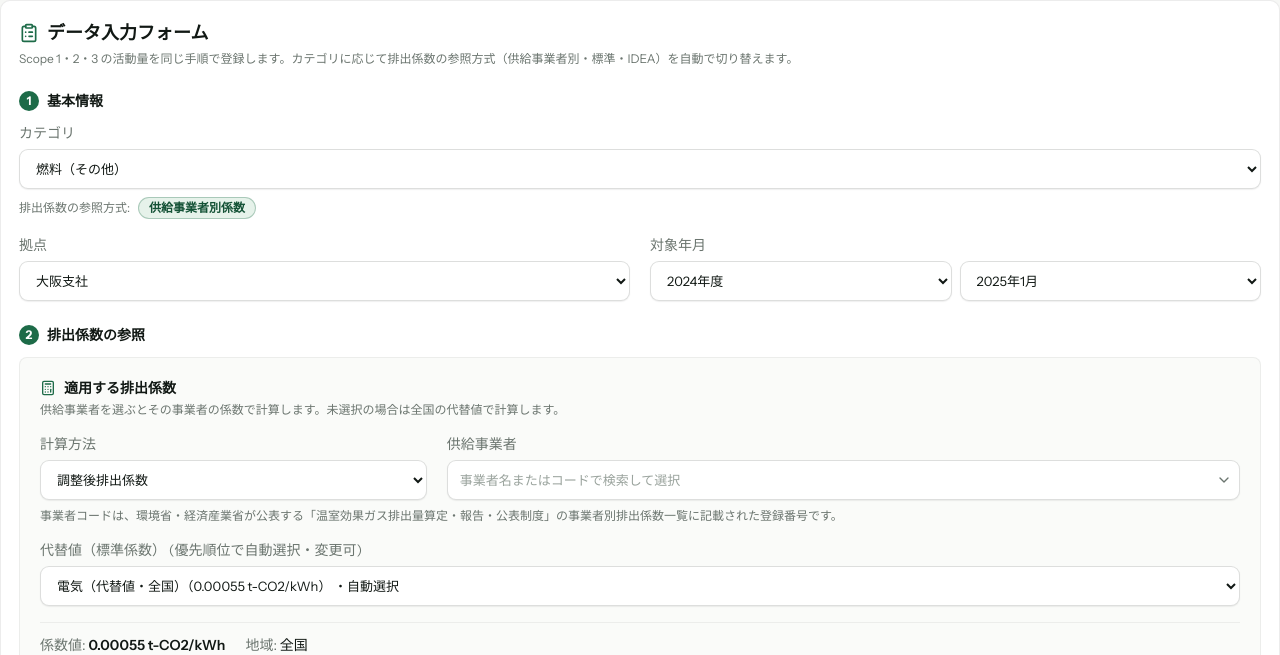
ActivityEntryForm › カテゴリ切替: 燃料は標準係数、Scope3 は IDEA 原単位に切り替わり、Scope3 の間は係数を再取得しない
This screenshot has width=1280, height=655.
Select "燃料（その他）" in the dropdown with id "manual-category-select" at [640, 169], box [19,149,1261,189]
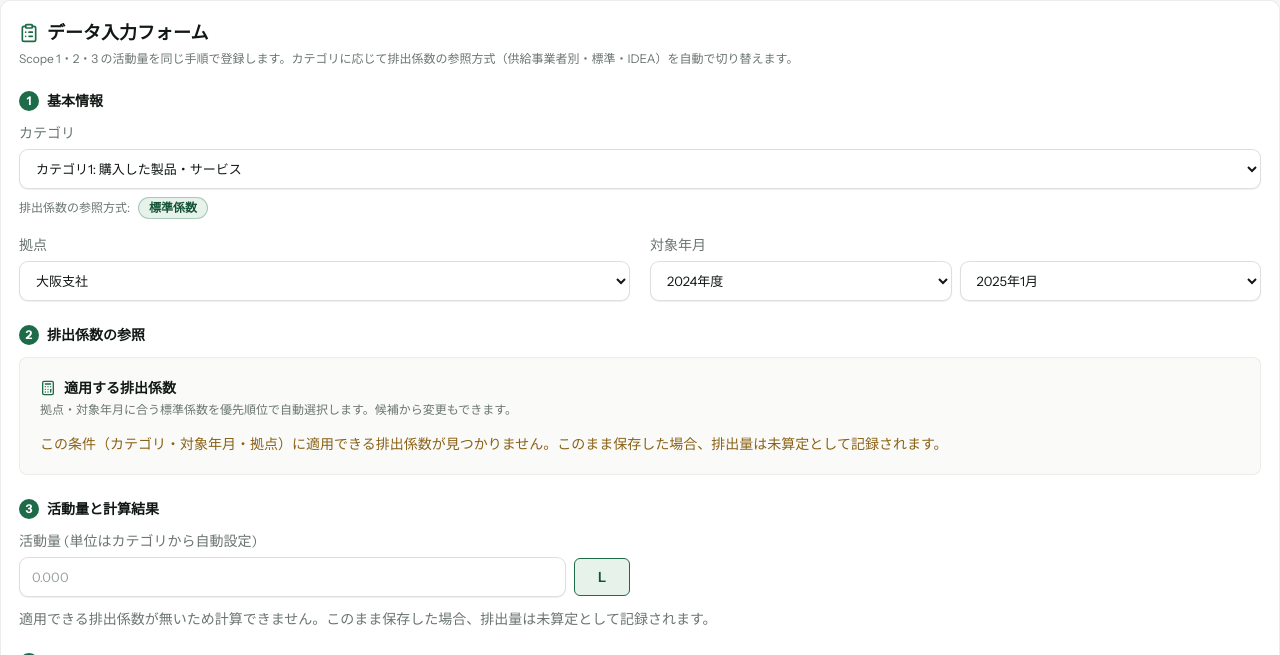
Result: the text with test id "manual-factor-source-chip" reads "標準係数" at [149,200,197,215]
Result: the label with id "manual-factor-type-select" is gone
Result: the label with id "manual-provider-select" is gone
Select "カテゴリ1: 購入した製品・サービス" in the dropdown with id "manual-category-select" at [640, 169], box [19,149,1261,189]
(page scrolled)
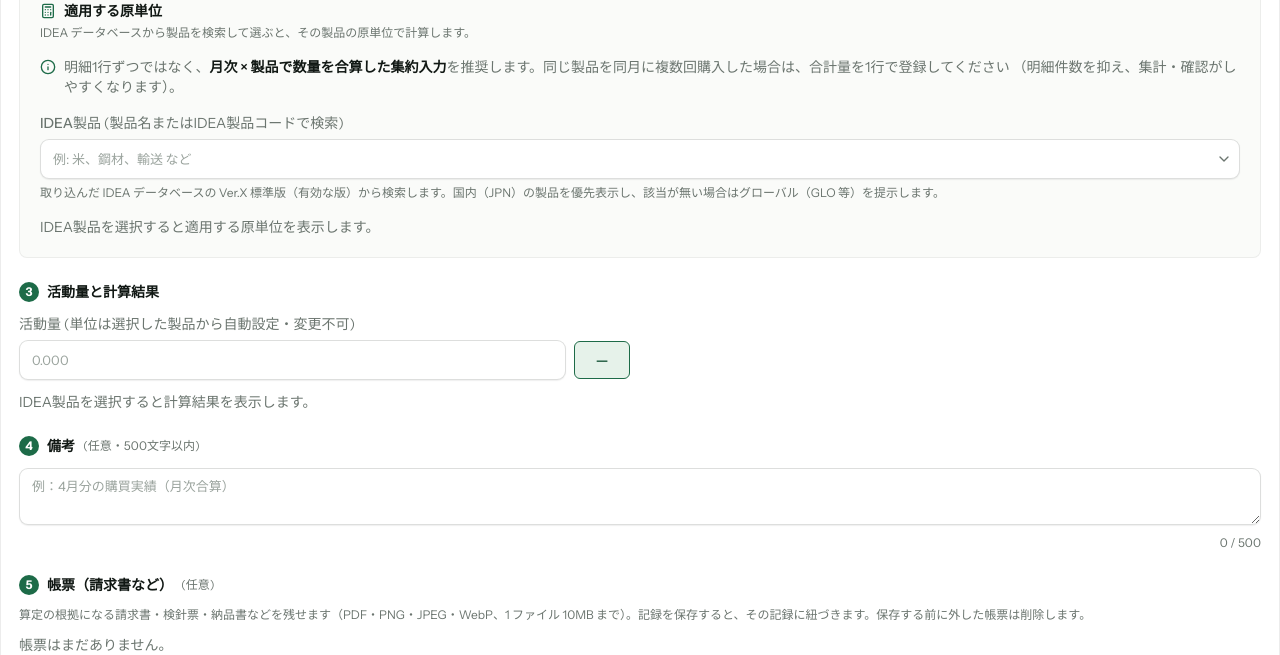
Expected: the text "—" is shown, [574,341,630,379]
Result: the dropdown with id "manual-product-select" is shown at [40,139,1240,179]
Result: the text "月次 × 製品で数量を合算した集約入力" is shown at [210,58,446,76]
